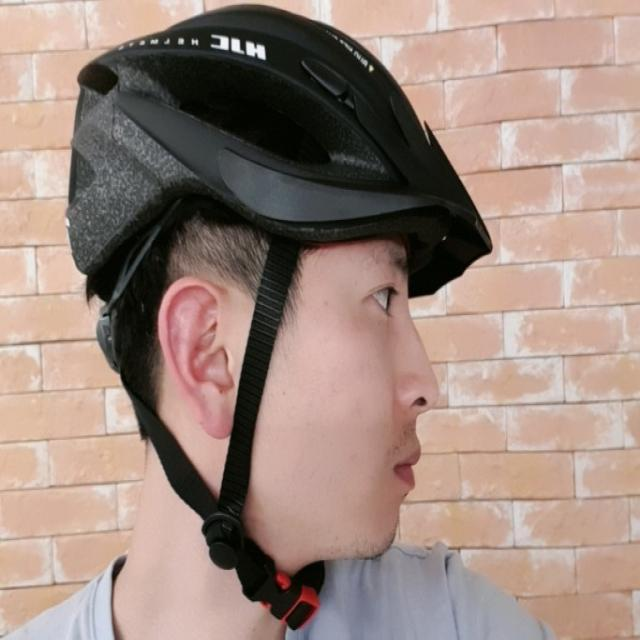Helmet: (62, 2, 494, 576)
